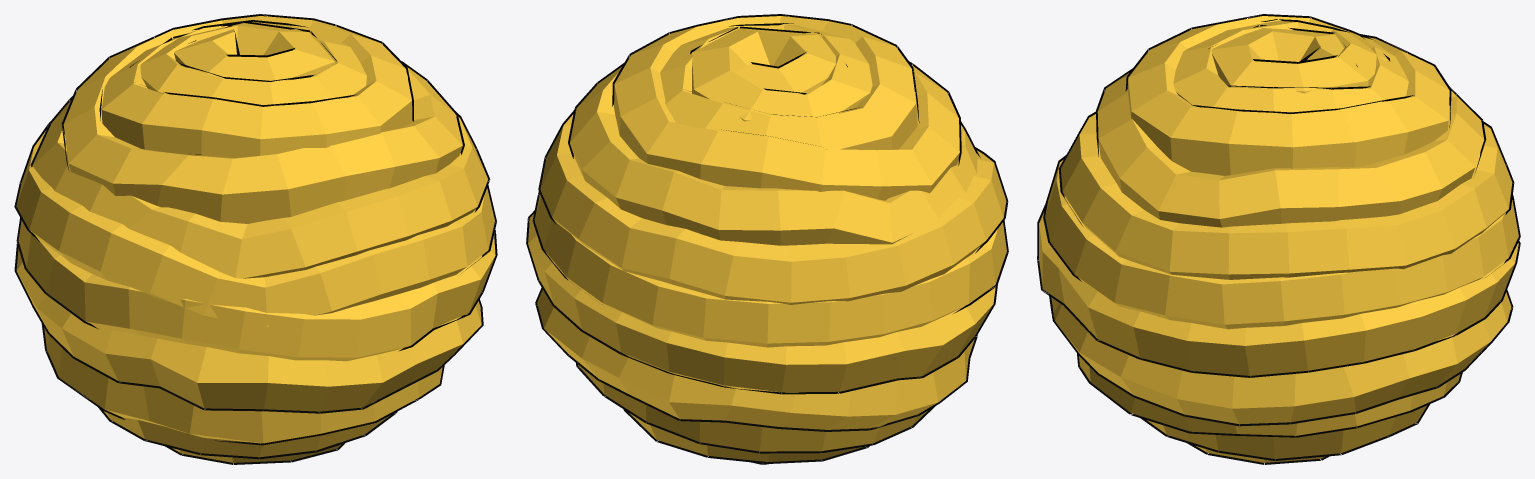
The model's file is EnemyOrange.fbx.
3 renders of one model, left to right at view 1: azimuth 30°, elevation 25°; view 2: azimuth 150°, elevation 25°; view 3: azimuth 270°, elevation 25°, orthographic.
Parts seen in each view (by area): view 1: Cylinder.005; view 2: Cylinder.005; view 3: Cylinder.005.
Boxes of the visible parts, left/top/right/bottom form: Cylinder.005: left=14, top=14, right=497, bottom=464; Cylinder.005: left=526, top=14, right=1008, bottom=464; Cylinder.005: left=1037, top=14, right=1520, bottom=464.
Bounding box in the file's own units: 234 × 213 × 234.
